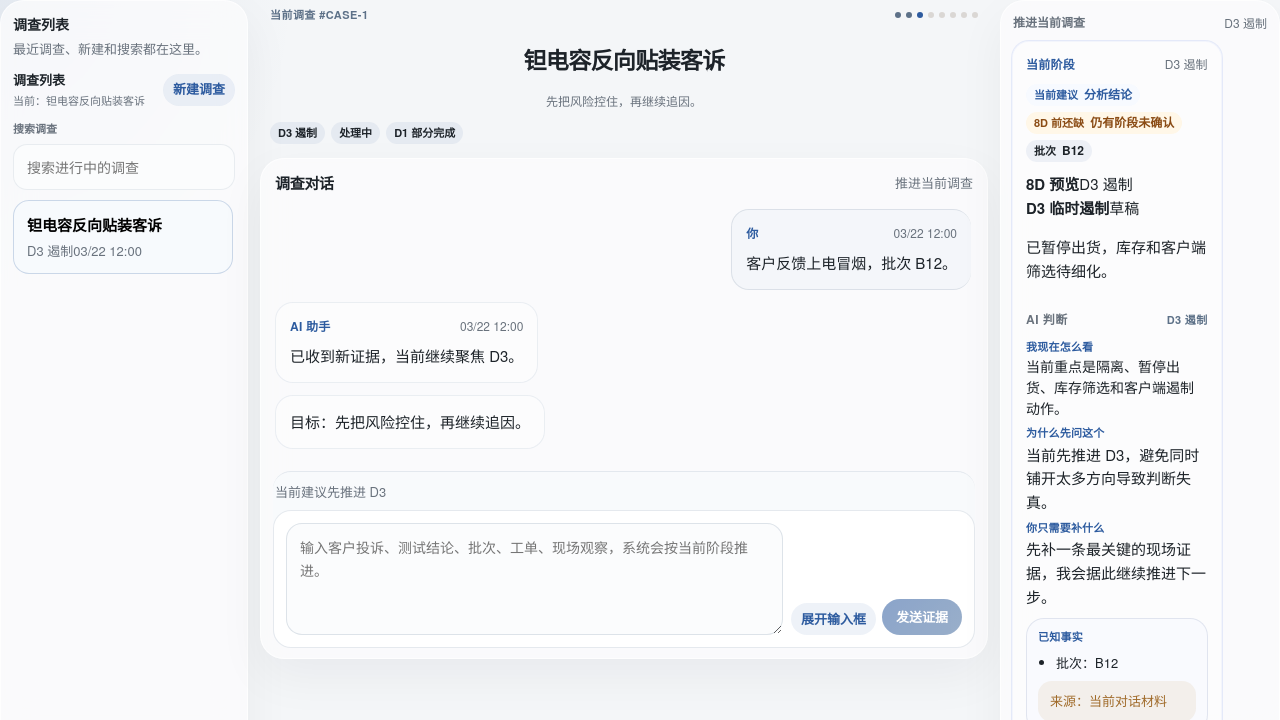
Test: Workspace › shows a fail-closed error and keeps composer content when evidence api is unavailable
The image size is (1280, 720).
Expected: the heading "钽电容反向贴装客诉" is shown, [270,33,978,83]
In the text box named "证据输入框": (534, 579) [286,523,783,635], type "客户现场发现上电冒烟，批次 B19，已暂停出货。"
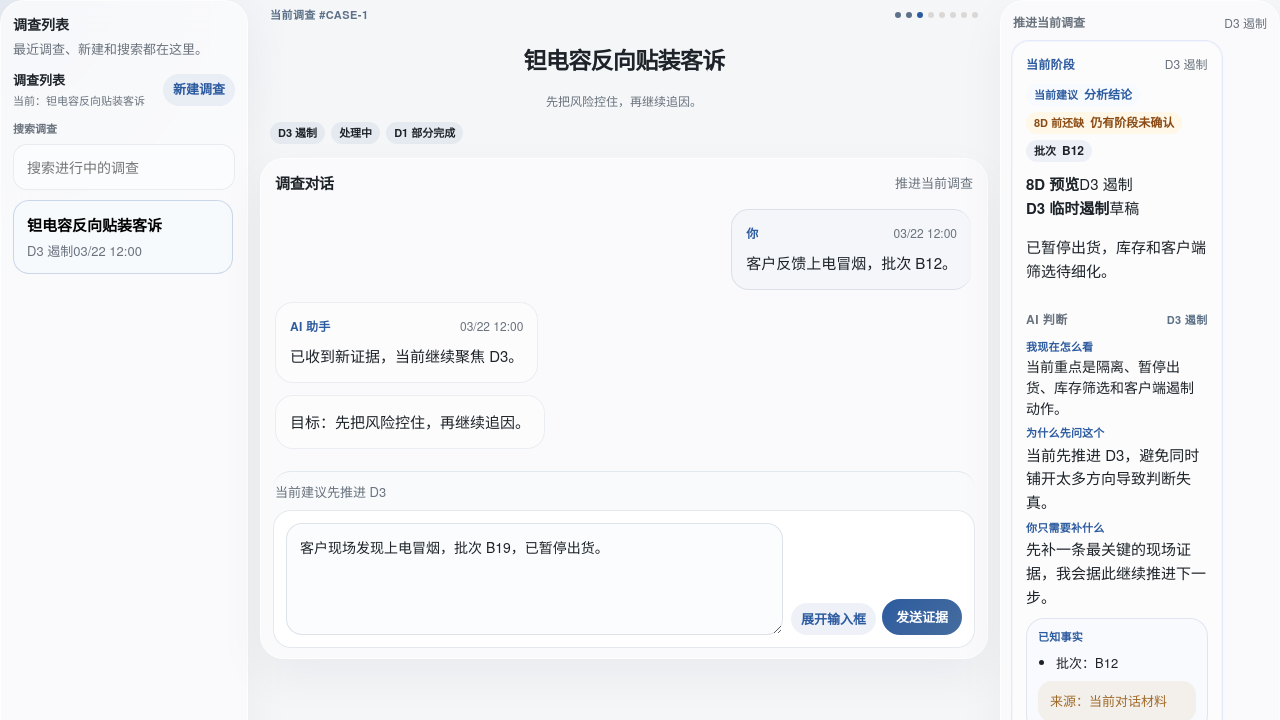
Click the button "发送证据": (922, 617) [882,599,962,635]
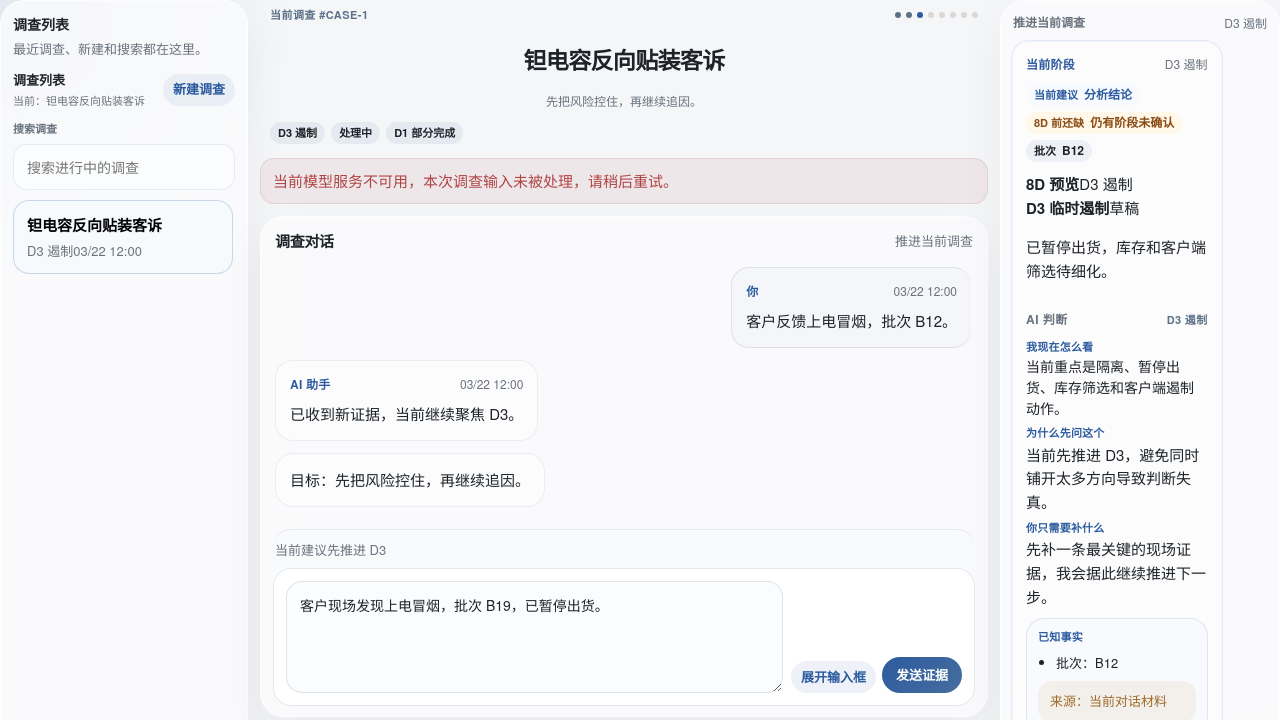
Expected: the text "当前模型服务不可用，本次调查输入未被处理，请稍后重试。" is shown, [260,158,988,204]
